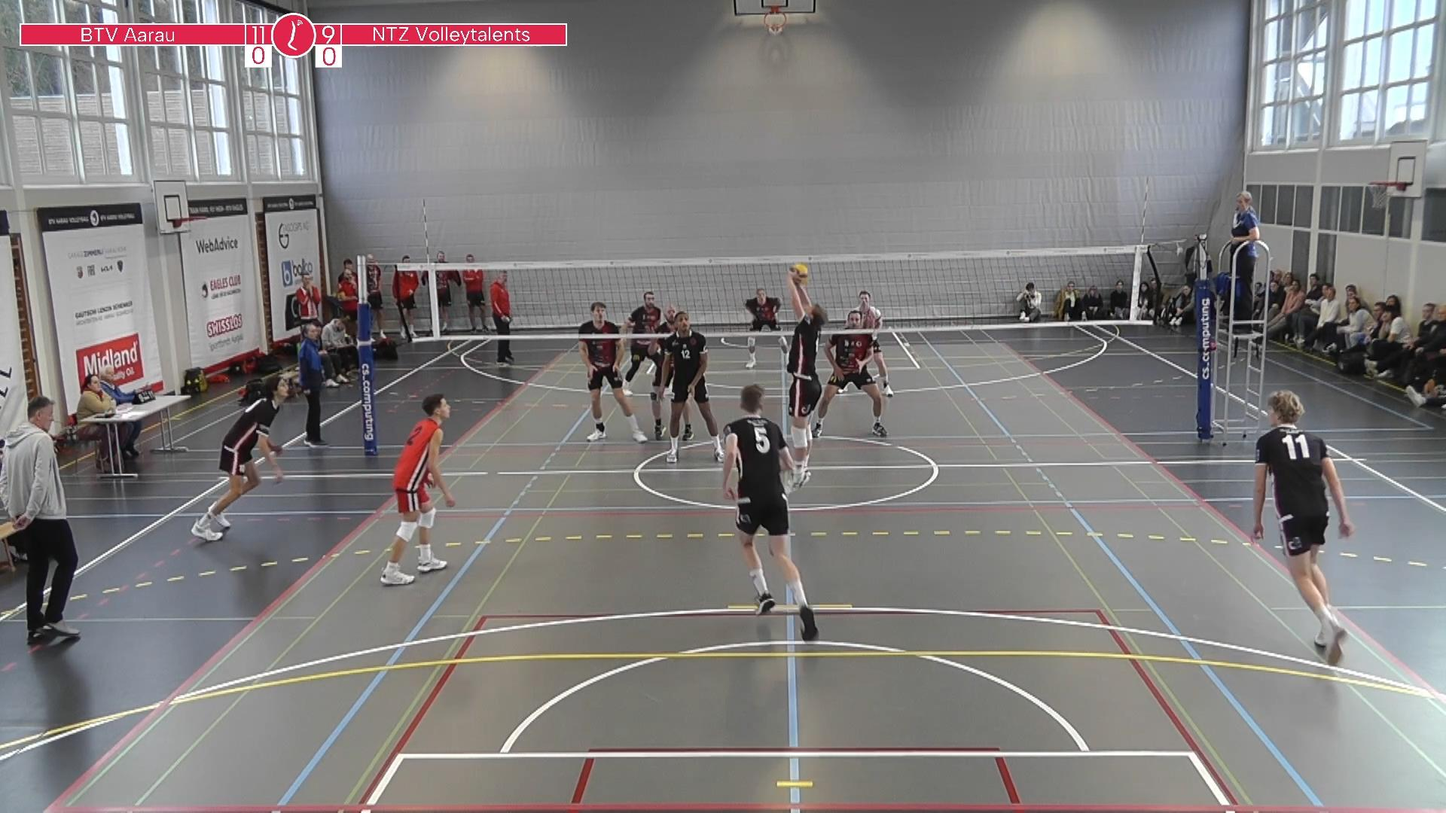Player: (1253, 391, 1353, 664), (723, 384, 817, 641), (191, 375, 290, 540), (380, 394, 455, 585), (578, 302, 646, 443), (663, 311, 723, 463), (813, 333, 886, 437), (858, 290, 893, 397), (624, 339, 661, 427), (745, 288, 780, 332), (658, 304, 678, 343)
Set: (776, 279, 826, 497)
ball: (787, 261, 809, 288)
